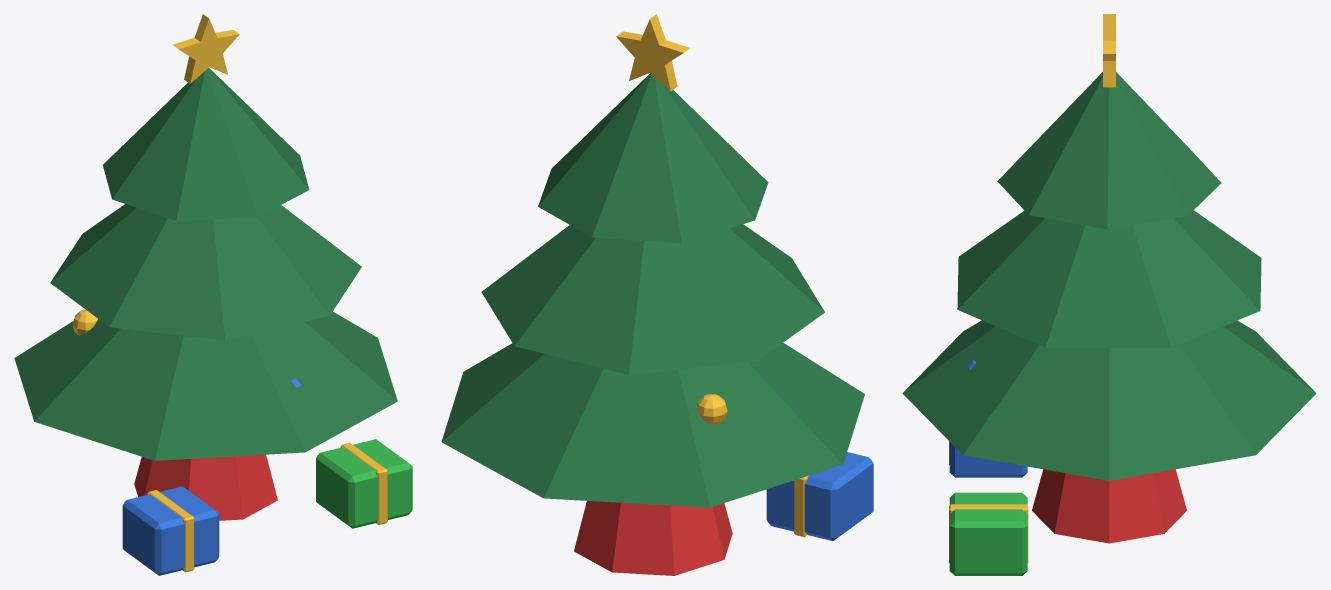
Rendered from ChristmasTree.fbx.
3 views of the same model, side by side, from view 1: azimuth 30°, elevation 25°; view 2: azimuth 150°, elevation 25°; view 3: azimuth 270°, elevation 25° (orthographic). The views are drawn at different scales.
Visible parts, largest first — view 1: ChristmasTree; view 2: ChristmasTree; view 3: ChristmasTree.
Part boxes in pixels (x1,y1,x2,y2): ChristmasTree: [14, 14, 412, 575]; ChristmasTree: [441, 14, 873, 575]; ChristmasTree: [902, 14, 1316, 575].
Bounding box in the file's own units: 4.8 × 6.36 × 4.8.
1 material, 1 textured.
